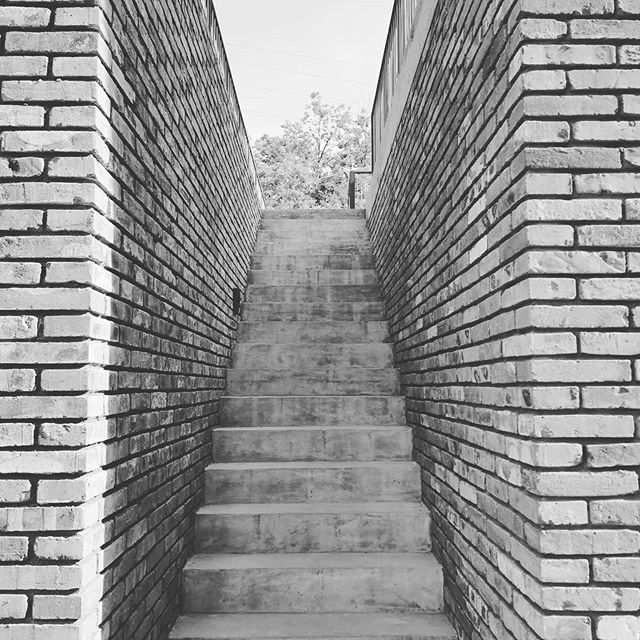tree: (249, 94, 375, 217)
wall: (379, 1, 551, 635), (95, 1, 244, 635)
